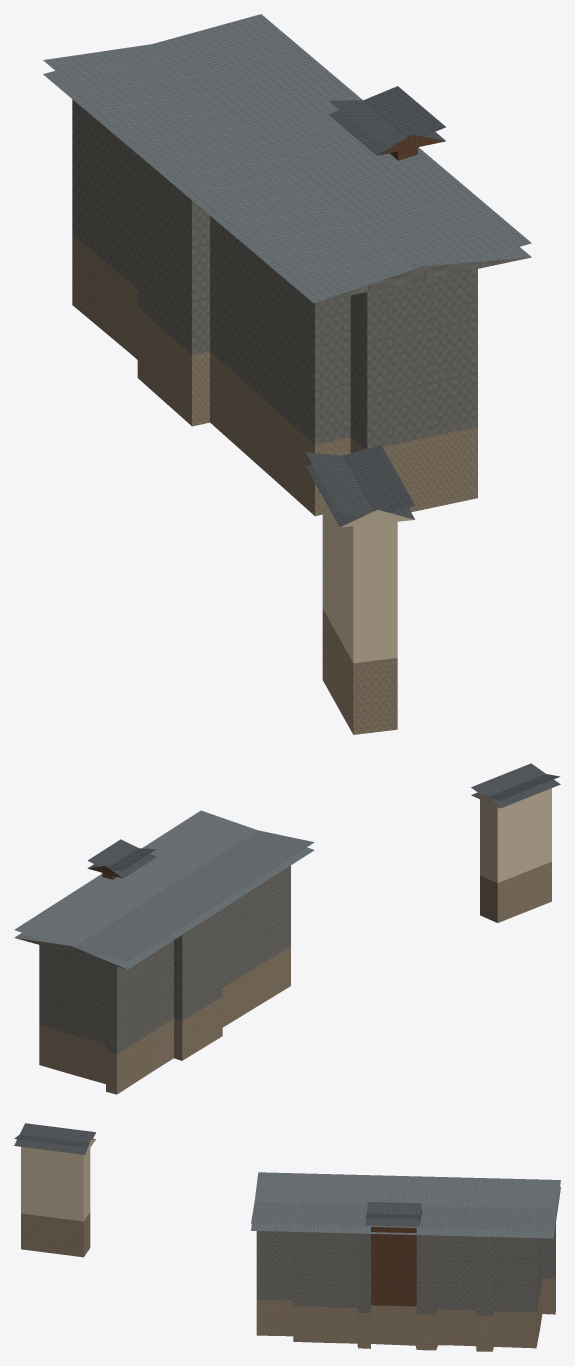
Rendered from bld_c9_40_506.gltf.
3 renders of one model, top to bottom at view 1: azimuth 30°, elevation 25°; view 2: azimuth 150°, elevation 25°; view 3: azimuth 270°, elevation 25°, orthographic. The views are drawn at different scales.
Parts seen in each view (by area): view 1: bld_c9_40_506; view 2: bld_c9_40_506; view 3: bld_c9_40_506.
Boxes of the visible parts, box(x1,y1,x2,y2) form: bld_c9_40_506: box(43, 14, 531, 734); bld_c9_40_506: box(14, 763, 560, 1094); bld_c9_40_506: box(14, 1123, 560, 1351).
Bounding box in the file's own units: 33.71 × 19.4 × 70.57.
Materials: 9 (9 with a texture image).
